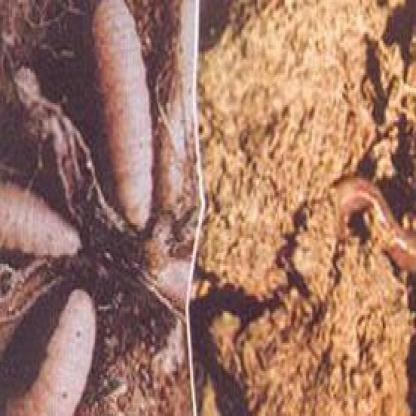whorl-maggot: (88, 0, 160, 234), (5, 286, 104, 415), (1, 179, 89, 264)
